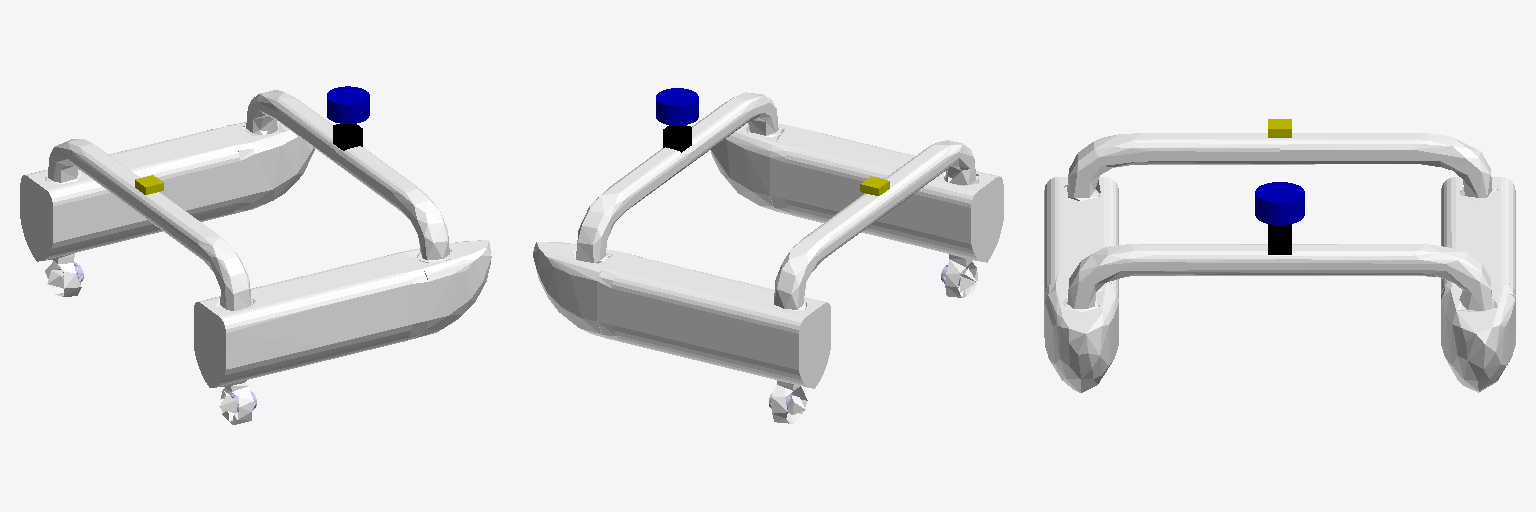
robot.urdf — boatcleaningc:
<?xml version="1.0" encoding="utf-8"?>
<!-- This URDF was automatically created by SolidWorks to URDF Exporter! Originally created by [author] ([email redacted]) 
     Commit Version: 1.6.0-4-g7f85cfe  Build Version: 1.6.7995.38578
     For more information, please see http://wiki.ros.org/sw_urdf_exporter -->
<robot
  name="boatcleaningc">
  <link
    name="baseboatclening">
    <inertial>
      <origin
        xyz="-0.0129680077841765 1.25727561811617E-06 -0.0543415157249071"
        rpy="0 0 0" />
      <mass
        value="13.5985858196954" />
      <inertia
        ixx="0.12499527878428"
        ixy="8.1696015611578E-07"
        ixz="-0.00148374605527537"
        iyy="0.0961950105001574"
        iyz="8.27994826632574E-06"
        izz="0.136442575579436" />
    </inertial>
    <visual>
      <origin
        xyz="0 0 0"
        rpy="0 0 0" />
      <geometry>
        <mesh
          filename="package://boatcleaningc/meshes/baseboatclening.STL" />
      </geometry>
      <material
        name="">
        <color
          rgba="1 1 1 1" />
      </material>
    </visual>
    <collision>
      <origin
        xyz="0 0 0"
        rpy="0 0 0" />
      <geometry>
        <mesh
          filename="package://boatcleaningc/meshes/baseboatclening.STL" />
      </geometry>
    </collision>
  </link>
  <link
    name="axegauche">
    <inertial>
      <origin
        xyz="1.27679435346639E-06 -4.87775281632352E-06 0.0164902272597591"
        rpy="0 0 0" />
      <mass
        value="0.0667653906372772" />
      <inertia
        ixx="2.27687846986066E-05"
        ixy="-1.64564197087163E-09"
        ixz="-1.94145680803022E-09"
        iyy="2.27919636489373E-05"
        iyz="7.33602396572131E-09"
        izz="1.69008013245686E-05" />
    </inertial>
    <visual>
      <origin
        xyz="0 0 0"
        rpy="0 0 0" />
      <geometry>
        <mesh
          filename="package://boatcleaningc/meshes/axegauche.STL" />
      </geometry>
      <material
        name="">
        <color
          rgba="0.792156862745098 0.819607843137255 0.933333333333333 1" />
      </material>
    </visual>
    <collision>
      <origin
        xyz="0 0 0"
        rpy="0 0 0" />
      <geometry>
        <mesh
          filename="package://boatcleaningc/meshes/axegauche.STL" />
      </geometry>
    </collision>
  </link>
  <joint
    name="axegauchejoint"
    type="fixed">
    <origin
      xyz="-0.263293964432029 0.398727536440511 -0.255999999999994"
      rpy="-1.5707963267949 -0.0017453292519949 -1.5707963267949" />
    <parent
      link="baseboatclening" />
    <child
      link="axegauche" />
    <axis
      xyz="0 0 0" />
  </joint>
  <link
    name="fangauche">
    <inertial>
      <origin
        xyz="0.0121880649596051 -1.96166660693109E-09 4.45801809634272E-08"
        rpy="0 0 0" />
      <mass
        value="0.00795785659641826" />
      <inertia
        ixx="3.72710558894489E-06"
        ixy="2.12970220347823E-13"
        ixz="-8.34019260089533E-13"
        iyy="2.39331655167268E-06"
        iyz="-4.61638273535348E-10"
        izz="2.39447831194732E-06" />
    </inertial>
    <visual>
      <origin
        xyz="0 0 0"
        rpy="0 0 0" />
      <geometry>
        <mesh
          filename="package://boatcleaningc/meshes/fangauche.STL" />
      </geometry>
      <material
        name="">
        <color
          rgba="0.792156862745098 0.819607843137255 0.933333333333333 1" />
      </material>
    </visual>
    <collision>
      <origin
        xyz="0 0 0"
        rpy="0 0 0" />
      <geometry>
        <mesh
          filename="package://boatcleaningc/meshes/fangauche.STL" />
      </geometry>
    </collision>
  </link>
  <joint
    name="fangauchejoint"
    type="continuous">
    <origin
      xyz="0 0 -0.0065208"
      rpy="1.5691 -1.5708 0" />
    <parent
      link="axegauche" />
    <child
      link="fangauche" />
    <axis
      xyz="1 0 0" />
  </joint>
  <link
    name="axedroit">
    <inertial>
      <origin
        xyz="1.27706300609431E-06 -4.87768385248888E-06 0.0164902268079528"
        rpy="0 0 0" />
      <mass
        value="0.0667653874530656" />
      <inertia
        ixx="2.2768784169048E-05"
        ixy="-1.64569925595665E-09"
        ixz="-1.94169064678752E-09"
        iyy="2.27919627987871E-05"
        iyz="7.33603381553706E-09"
        izz="1.69008005306967E-05" />
    </inertial>
    <visual>
      <origin
        xyz="0 0 0"
        rpy="0 0 0" />
      <geometry>
        <mesh
          filename="package://boatcleaningc/meshes/axedroit.STL" />
      </geometry>
      <material
        name="">
        <color
          rgba="0.792156862745098 0.819607843137255 0.933333333333333 1" />
      </material>
    </visual>
    <collision>
      <origin
        xyz="0 0 0"
        rpy="0 0 0" />
      <geometry>
        <mesh
          filename="package://boatcleaningc/meshes/axedroit.STL" />
      </geometry>
    </collision>
  </link>
  <joint
    name="axedroitjoint"
    type="fixed">
    <origin
      xyz="-0.263293964432035 -0.401272463559541 -0.255999999999994"
      rpy="-1.5707963267949 -0.00174532925200045 -1.5707963267949" />
    <parent
      link="baseboatclening" />
    <child
      link="axedroit" />
    <axis
      xyz="0 0 0" />
  </joint>
  <link
    name="fandroit">
    <inertial>
      <origin
        xyz="0.0111720649596025 -1.96166084764915E-09 4.45801802140267E-08"
        rpy="0 0 0" />
      <mass
        value="0.0079578565964185" />
      <inertia
        ixx="3.72710558894501E-06"
        ixy="2.12970222312377E-13"
        ixz="-8.34019270254807E-13"
        iyy="2.39331655167276E-06"
        iyz="-4.61638273470614E-10"
        izz="2.39447831194736E-06" />
    </inertial>
    <visual>
      <origin
        xyz="0 0 0"
        rpy="0 0 0" />
      <geometry>
        <mesh
          filename="package://boatcleaningc/meshes/fandroit.STL" />
      </geometry>
      <material
        name="">
        <color
          rgba="0.792156862745098 0.819607843137255 0.933333333333333 1" />
      </material>
    </visual>
    <collision>
      <origin
        xyz="0 0 0"
        rpy="0 0 0" />
      <geometry>
        <mesh
          filename="package://boatcleaningc/meshes/fandroit.STL" />
      </geometry>
    </collision>
  </link>
  <joint
    name="fandroitjoint"
    type="continuous">
    <origin
      xyz="0 0 -0.0055047"
      rpy="1.5691 -1.5708 0" />
    <parent
      link="axedroit" />
    <child
      link="fandroit" />
    <axis
      xyz="1 0 0" />
  </joint>
  <link name="camera">
<inertial>
<origin xyz="0 0 0" rpy="0 0 0" />
<mass value="0.1" />
<inertia ixx="0.0001" ixy="0" ixz="0" iyy="0.0001" iyz="0" izz="0.0001" />
</inertial>
<visual>
<origin xyz="0 0 0" rpy="0 0 0" />
<geometry>
<box size="0.05 0.05 0.05" />
</geometry>
<material name="camera_material">
<color rgba="0 0 0 1" /> <!-- Black color for the camera -->
</material>
</visual>
<collision>
<origin xyz="0 0 0" rpy="0 0 0" />
<geometry>
<box size="0.05 0.05 0.05" />
</geometry>
</collision>
</link>
<!-- Add the joint to connect the camera to the base of the boat -->
<joint name="camera_joint" type="fixed">
<origin xyz="0.265 0 0.14" rpy="0 0 0"/>
<parent link="baseboatclening" />
<child link="camera" />
<axis xyz="0 0 0" />
</joint>
<!-- Gazebo plugin for the camera -->
<gazebo reference="camera">
<sensor type="camera" name="camera_sensor">
<update_rate>30</update_rate> <!-- Camera frame rate -->
<camera name="camera">
<horizontal_fov>2.0944</horizontal_fov> <!-- 120 degrees in radians -->
<image>
<width>640</width>
<height>480</height>
<format>R8G8B8</format>
</image>
<clip>
<near>0.1</near>
<far>100</far>
</clip>
</camera>
<plugin name="camera_controller" filename="libgazebo_ros_camera.so">
<alwaysOn>true</alwaysOn>
<updateRate>30</updateRate>
<cameraName>camera</cameraName>

<frameName>camera</frameName>
<imageTopicName>image_raw</imageTopicName>
<cameraInfoTopicName>camera_info</cameraInfoTopicName>
<hackBaseline>0.07</hackBaseline>
</plugin>
</sensor>
</gazebo>

<!-- LiDAR Sensor -->
<link name="lidar_center">
<inertial>
<mass value="0.1"/>
<origin xyz="0 0 0"/>
<inertia ixx="0.001" ixy="0" ixz="0" iyy="0.001" iyz="0" izz="0.001"/>
</inertial>
<visual>
<geometry>
<cylinder length="0.05" radius="0.05"/>
</geometry>
<material name="lidar_blue">
<color rgba="0 0 0.8 1"/>
</material>
</visual>
<collision>
<geometry>
<cylinder length="0.05" radius="0.05"/>
</geometry>
</collision>
</link>
<!-- Joint to connect the LiDAR to the camera -->
<joint name="lidar_center_joint" type="fixed">
<parent link="camera"/> <!-- Connect to the camera link -->
<child link="lidar_center"/>
<!--
Position relative to the camera:
X = 0 (centered)
Y = 0 (centered)
Z = 10 cm upward
-->
<origin xyz="0 0 0.08" rpy="0 0 0"/>
</joint>
<!-- Gazebo Configuration -->
<gazebo reference="lidar_center">
<sensor type="ray" name="lidar">
<pose>0 0 0 0 0 0</pose>
<visualize>true</visualize>
<update_rate>40</update_rate>
<ray>
<scan>

<horizontal>
<samples>720</samples>
<resolution>1</resolution>
<min_angle>-3.14159</min_angle> <!-- -180° -->
<max_angle>3.14159</max_angle> <!-- +180° -->
</horizontal>
</scan>
<range>
<min>0.1</min>
<max>10.0</max>
<resolution>0.03</resolution>
</range>
<noise>
<type>gaussian</type>
<mean>0.0</mean>
<stddev>0.01</stddev>
</noise>
</ray>
<plugin name="gazebo_ros_laser" filename="libgazebo_ros_laser.so">
<topicName>/scan</topicName>
<frameName>lidar_center</frameName>
</plugin>
</sensor>
</gazebo>
<!-- GPS Sensor -->
<link name="gps_link">
<inertial>
<mass value="0.05"/>
<origin xyz="0 0 0"/>
<inertia ixx="0.0001" ixy="0" ixz="0" iyy="0.0001" iyz="0" izz="0.0001"/>
</inertial>
<visual>
<geometry>
<box size="0.05 0.05 0.02"/>
</geometry>
<material name="gps_color">
<color rgba="0.8 0.8 0 1"/> <!-- Yellow color -->
</material>
</visual>
<collision>
<geometry>
<box size="0.05 0.05 0.02"/>
</geometry>
</collision>
</link>
<joint name="gps_joint" type="fixed">
<parent link="baseboatclening"/>
<child link="gps_link"/>
<origin xyz="-0.265 0 0.14" rpy="0 0 0"/> <!-- 26.5cm X, 0 Y, 12.25cm Z -->
</joint>

<!-- Gazebo GPS Configuration for ROS1 -->
<gazebo reference="gps_link">
<sensor type="gps" name="gps_sensor">
<pose>0 0 0 0 0 0</pose>
<update_rate>10</update_rate>
<plugin name="gazebo_ros_gps" filename="libgazebo_ros_gps.so"> <!-- Changed for ROS1 -->
<ros>
<namespace>/</namespace>
</ros>
<frameName>gps_link</frameName>
<topicName>gps/fix</topicName> <!-- ROS1 uses topicName instead of remapping -->
<velocityTopicName>gps/velocity</velocityTopicName>
<!-- ROS1-specific parameters -->
<gpsReferenceLatitude>43.60345</gpsReferenceLatitude> <!-- Marseille coordinates -->
<gpsReferenceLongitude>1.44283</gpsReferenceLongitude>
<gpsReferenceAltitude>150</gpsReferenceAltitude>
<gpsReferenceHeading>0</gpsReferenceHeading>
<velocityRandomWalk>0.1</velocityRandomWalk> <!-- m/s -->
<positionRandomWalk>1.5</positionRandomWalk> <!-- meters -->
</plugin>
</sensor>
</gazebo>








<plugin name="diff_drive_controller" filename="libgazebo_ros_diff_drive.so">
  <ros>
    <namespace>/</namespace>
    <remapping>cmd_vel:=cmd_vel</remapping>
  </ros>

  <updateRate>50.0</updateRate>
  <leftJoint>fangauchejoint</leftJoint>
  <rightJoint>fandroitjoint</rightJoint>

  <wheelSeparation>0.8</wheelSeparation> <!-- Adjust based on real distance between wheels -->
  <wheelDiameter>0.1</wheelDiameter>     <!-- Adjust based on actual wheel size -->

  <robotBaseFrame>baseboatclening</robotBaseFrame>
  <odomFrame>odom</odomFrame>
  <publishWheelTF>true</publishWheelTF>
  <publishTf>true</publishTf>
  <publishWheelJointState>true</publishWheelJointState>

  <topicName>odom</topicName>
  <cmdVelTopic>cmd_vel</cmdVelTopic>
</plugin>










</robot>

--- What the picture shows (computed from the rendered views, not written in the file) ---
Views: 3 orthographic renders of the robot side by side, from view 1: azimuth 30°, elevation 25°; view 2: azimuth 150°, elevation 25°; view 3: azimuth 270°, elevation 25°.
Model boatcleaningc with 8 links and 7 joints (2 continuous, 5 fixed), rooted at baseboatclening, posed all joints at 0.
Links seen in each view (by area): view 1: baseboatclening, lidar_center, camera; view 2: baseboatclening, lidar_center, camera; view 3: baseboatclening, lidar_center, camera.
Boxes of the visible links, box(x1,y1,x2,y2) form: baseboatclening: box(20, 90, 491, 424); lidar_center: box(327, 86, 369, 123); camera: box(333, 124, 362, 150); baseboatclening: box(533, 92, 1003, 423); lidar_center: box(656, 88, 698, 125); camera: box(663, 125, 691, 152); baseboatclening: box(1044, 133, 1515, 392); lidar_center: box(1255, 182, 1304, 224); camera: box(1268, 224, 1291, 254).
Size in the robot's own frame: 0.7506 by 0.95 by 0.5499 metres.
5 mesh visuals loaded from 5 distinct referenced files (5 binary STL).
